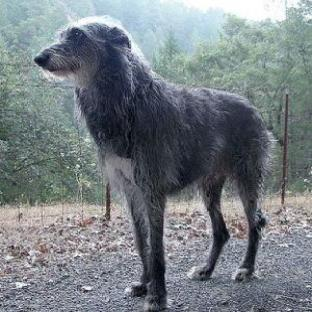Animal: (34, 18, 270, 311)
